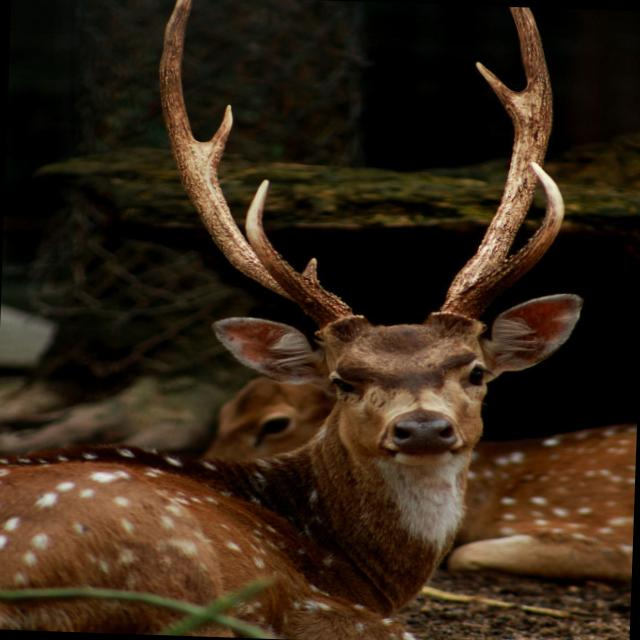deer: (0, 23, 622, 615)
